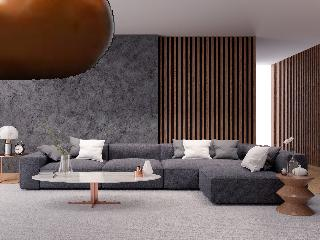potato: (0, 0, 114, 81)
